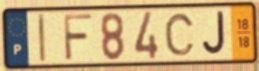4: (132, 9, 161, 62)
8: (99, 11, 126, 62)
C: (163, 12, 197, 58)
F: (62, 12, 95, 63)
I: (36, 12, 48, 65)
J: (201, 10, 228, 58)
